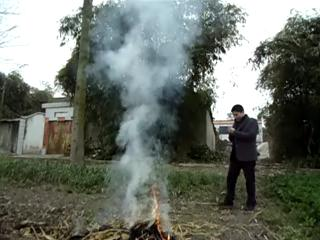yanwu: (90, 1, 207, 224)
